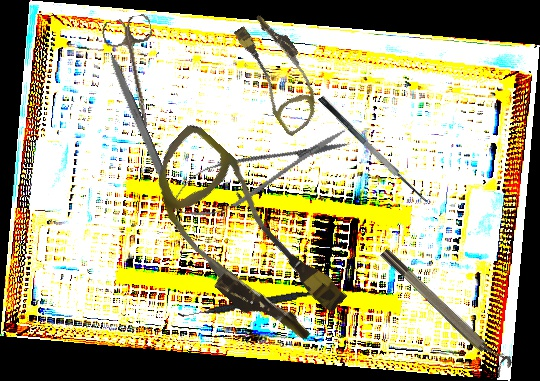Cannula: (119, 120, 366, 357), (222, 8, 336, 138)
Fixation Ring: (377, 240, 516, 379)
Iris Scissors: (100, 12, 173, 133)
Micro Scissor: (157, 113, 359, 233)
Scalpel Handle: (104, 50, 176, 200)
Spatula Surgical: (317, 86, 436, 208), (177, 284, 329, 323)
